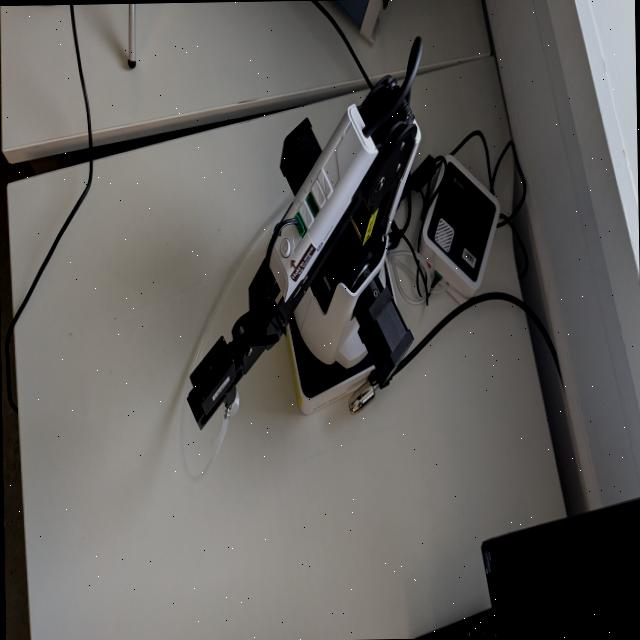Robot-end-effector-HF8z: (182, 332, 240, 432)
